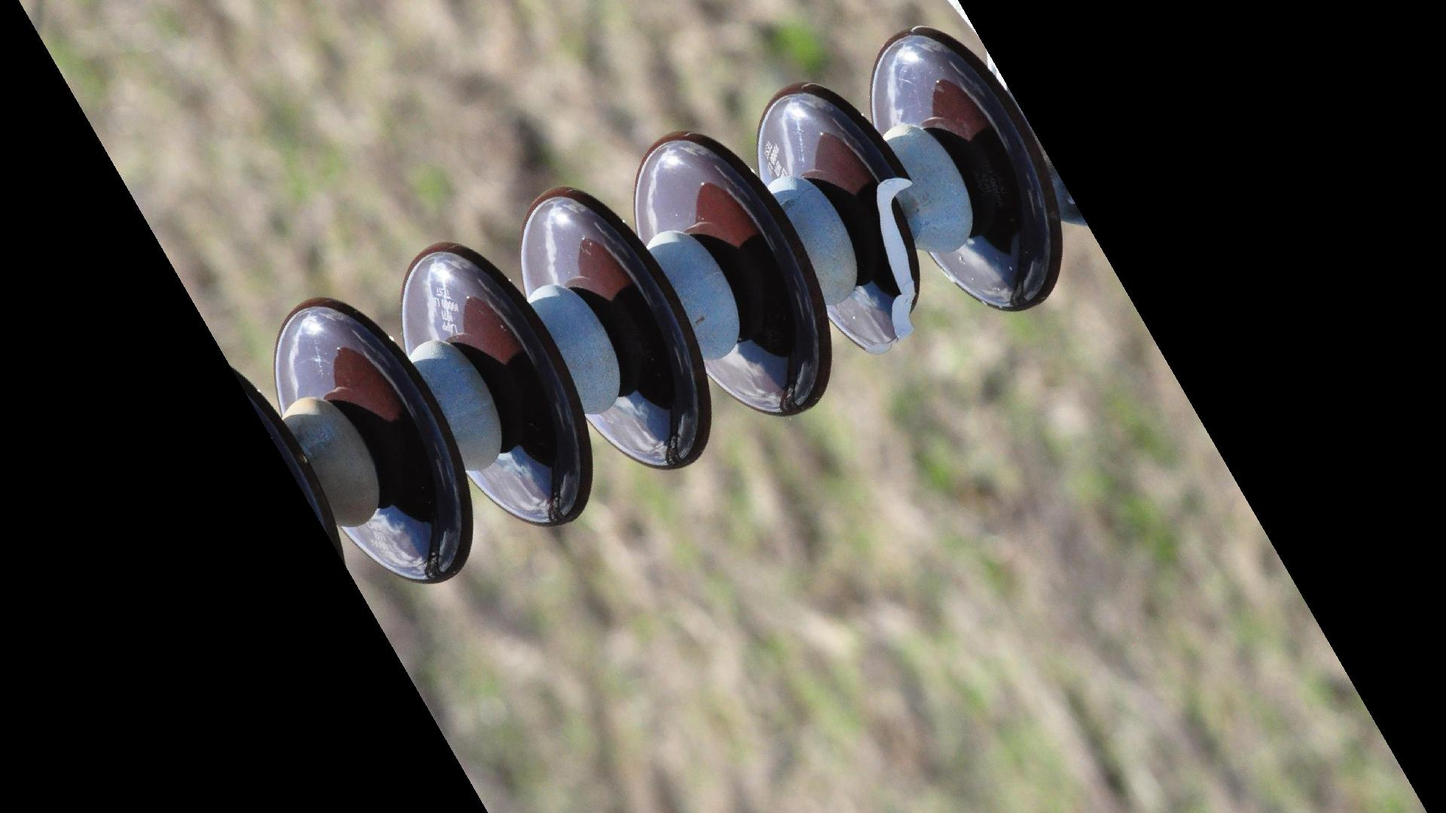insulator: (267, 21, 1078, 588)
insulator_breakage: (844, 166, 928, 362)
